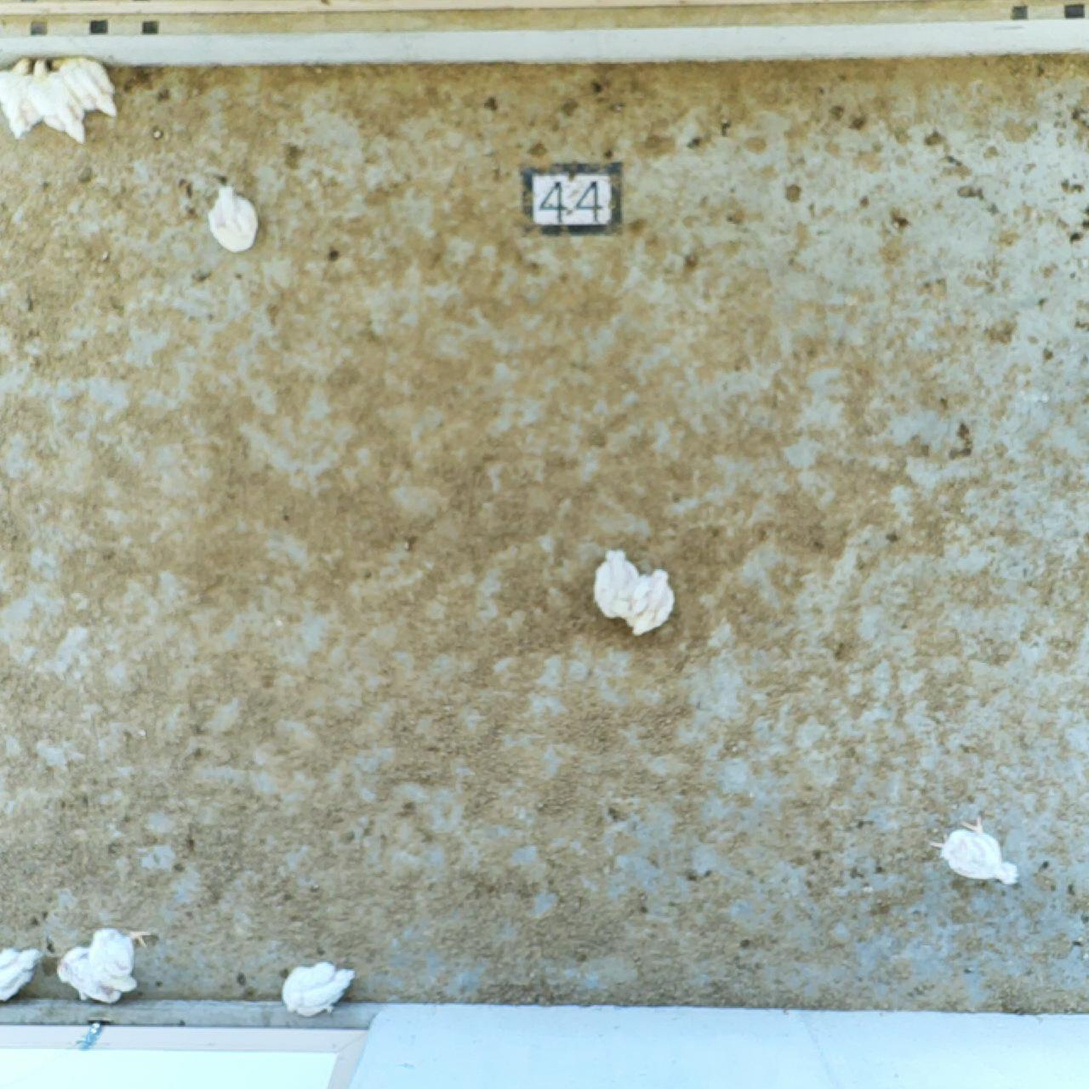chicken: (926, 811, 1020, 887), (26, 57, 88, 145), (50, 54, 121, 120), (280, 959, 356, 1018), (54, 945, 123, 1005), (88, 926, 159, 981), (1, 55, 46, 139), (590, 547, 641, 621), (206, 183, 259, 254), (623, 567, 676, 637), (1, 945, 43, 1002)
